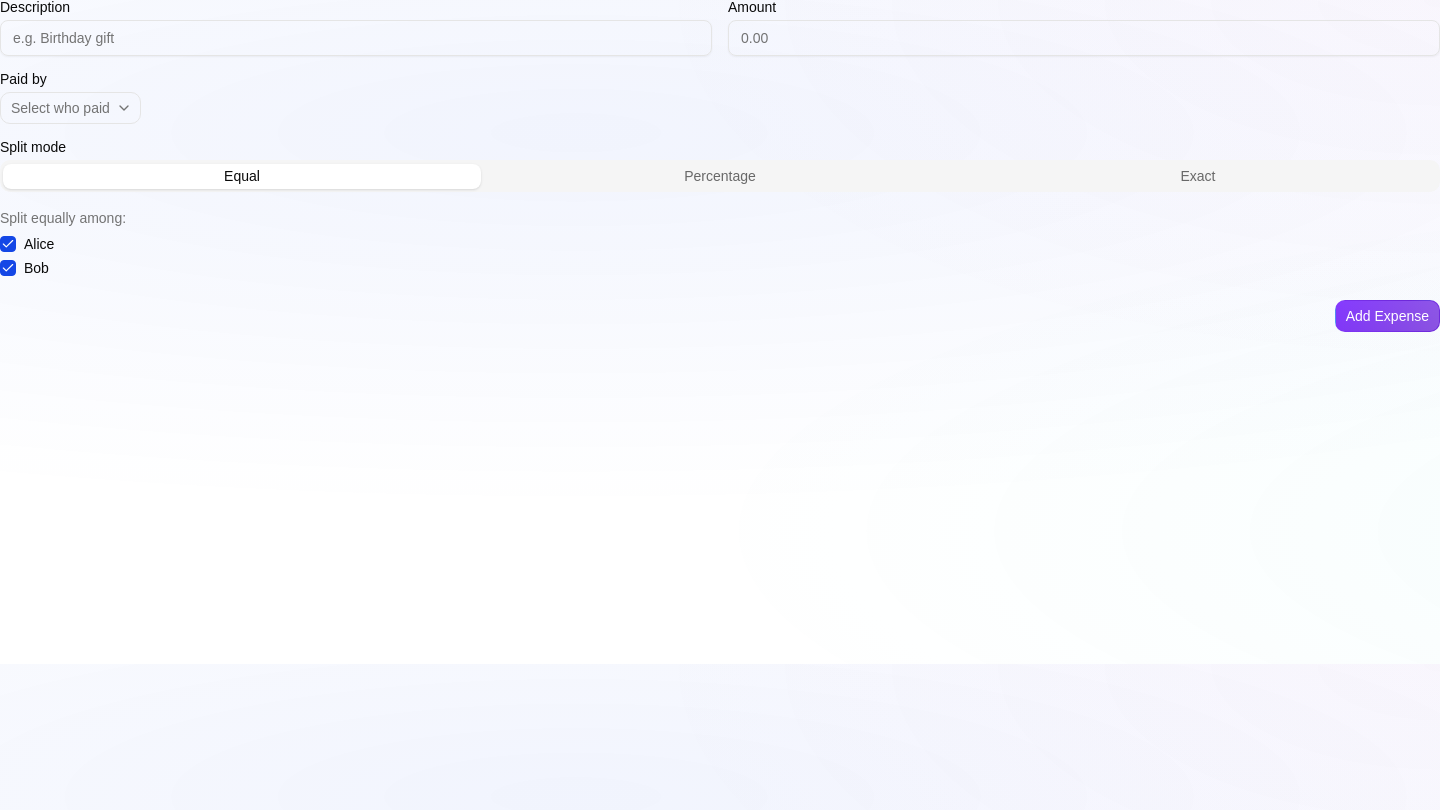
Test: ExpenseForm › split mode tabs › switches to percentage mode when Percentage tab clicked
This screenshot has width=1440, height=810.
Click the tab "Percentage" at (720, 176), box 481,164 -> 959,188
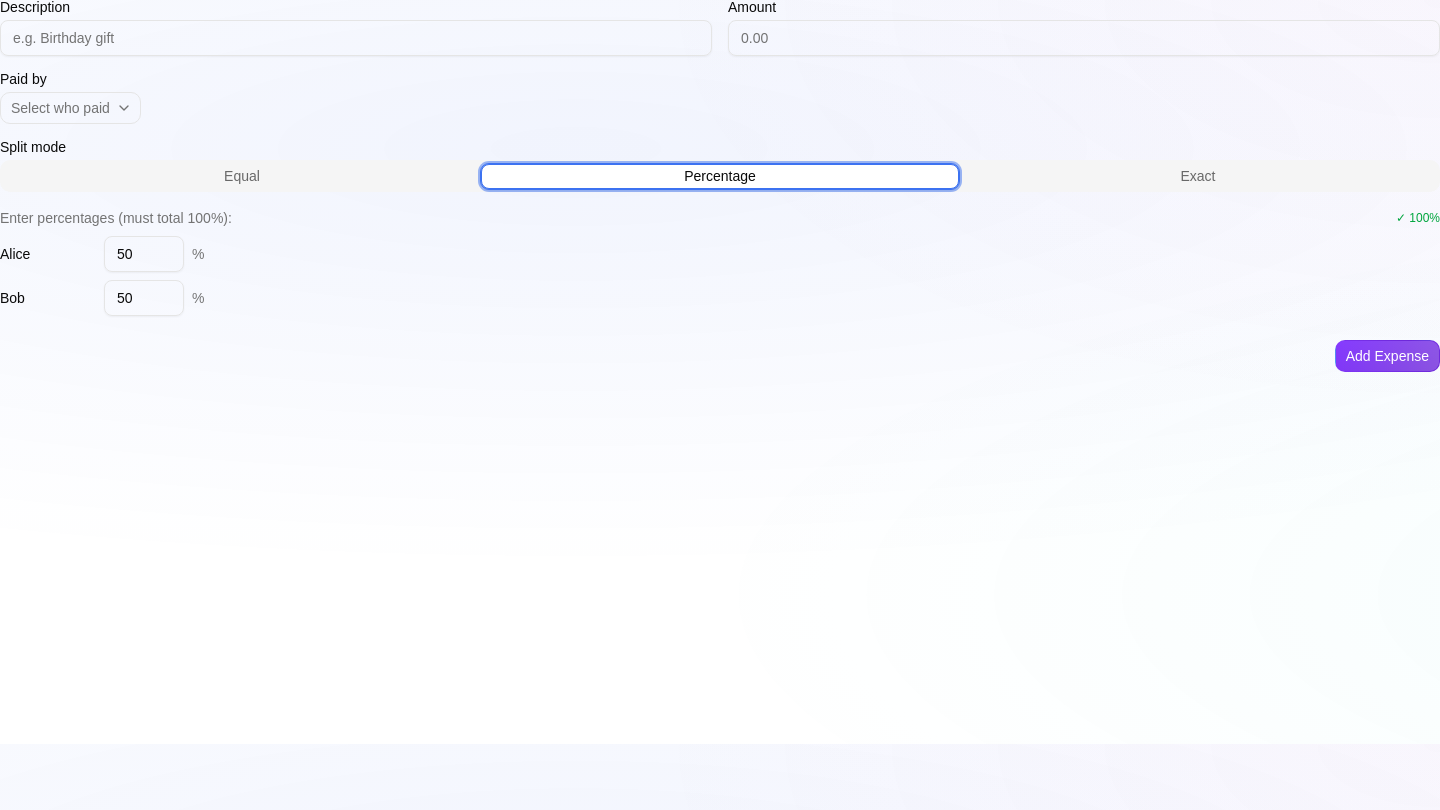
Expected: the text "Enter percentages (must total 100%):" is shown, 0,208 -> 232,228
